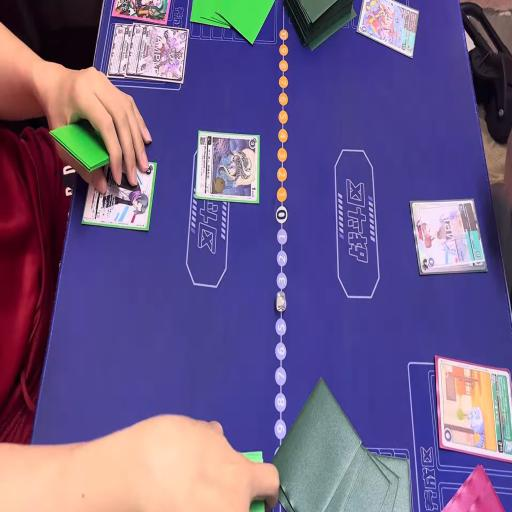card: (432, 350, 512, 470), (405, 188, 484, 278), (80, 162, 158, 229), (194, 131, 262, 200), (359, 0, 421, 55), (129, 24, 189, 80), (108, 22, 138, 81)
